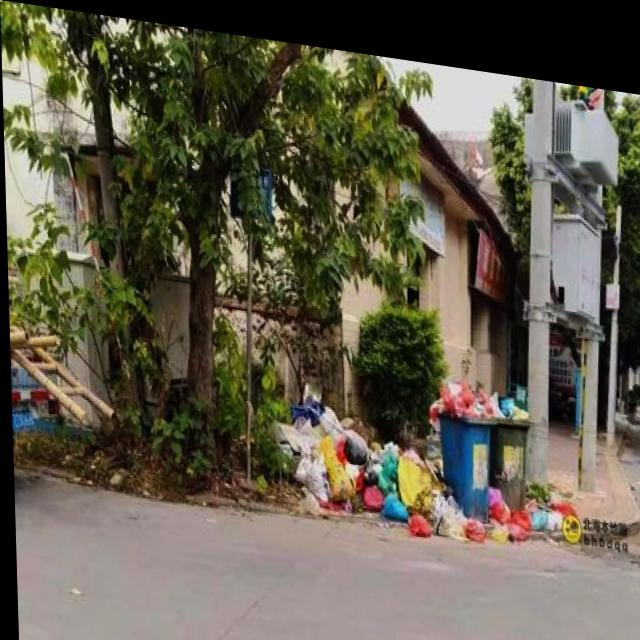garbage: (265, 385, 578, 541)
overflow: (426, 359, 492, 509), (486, 380, 530, 496)
